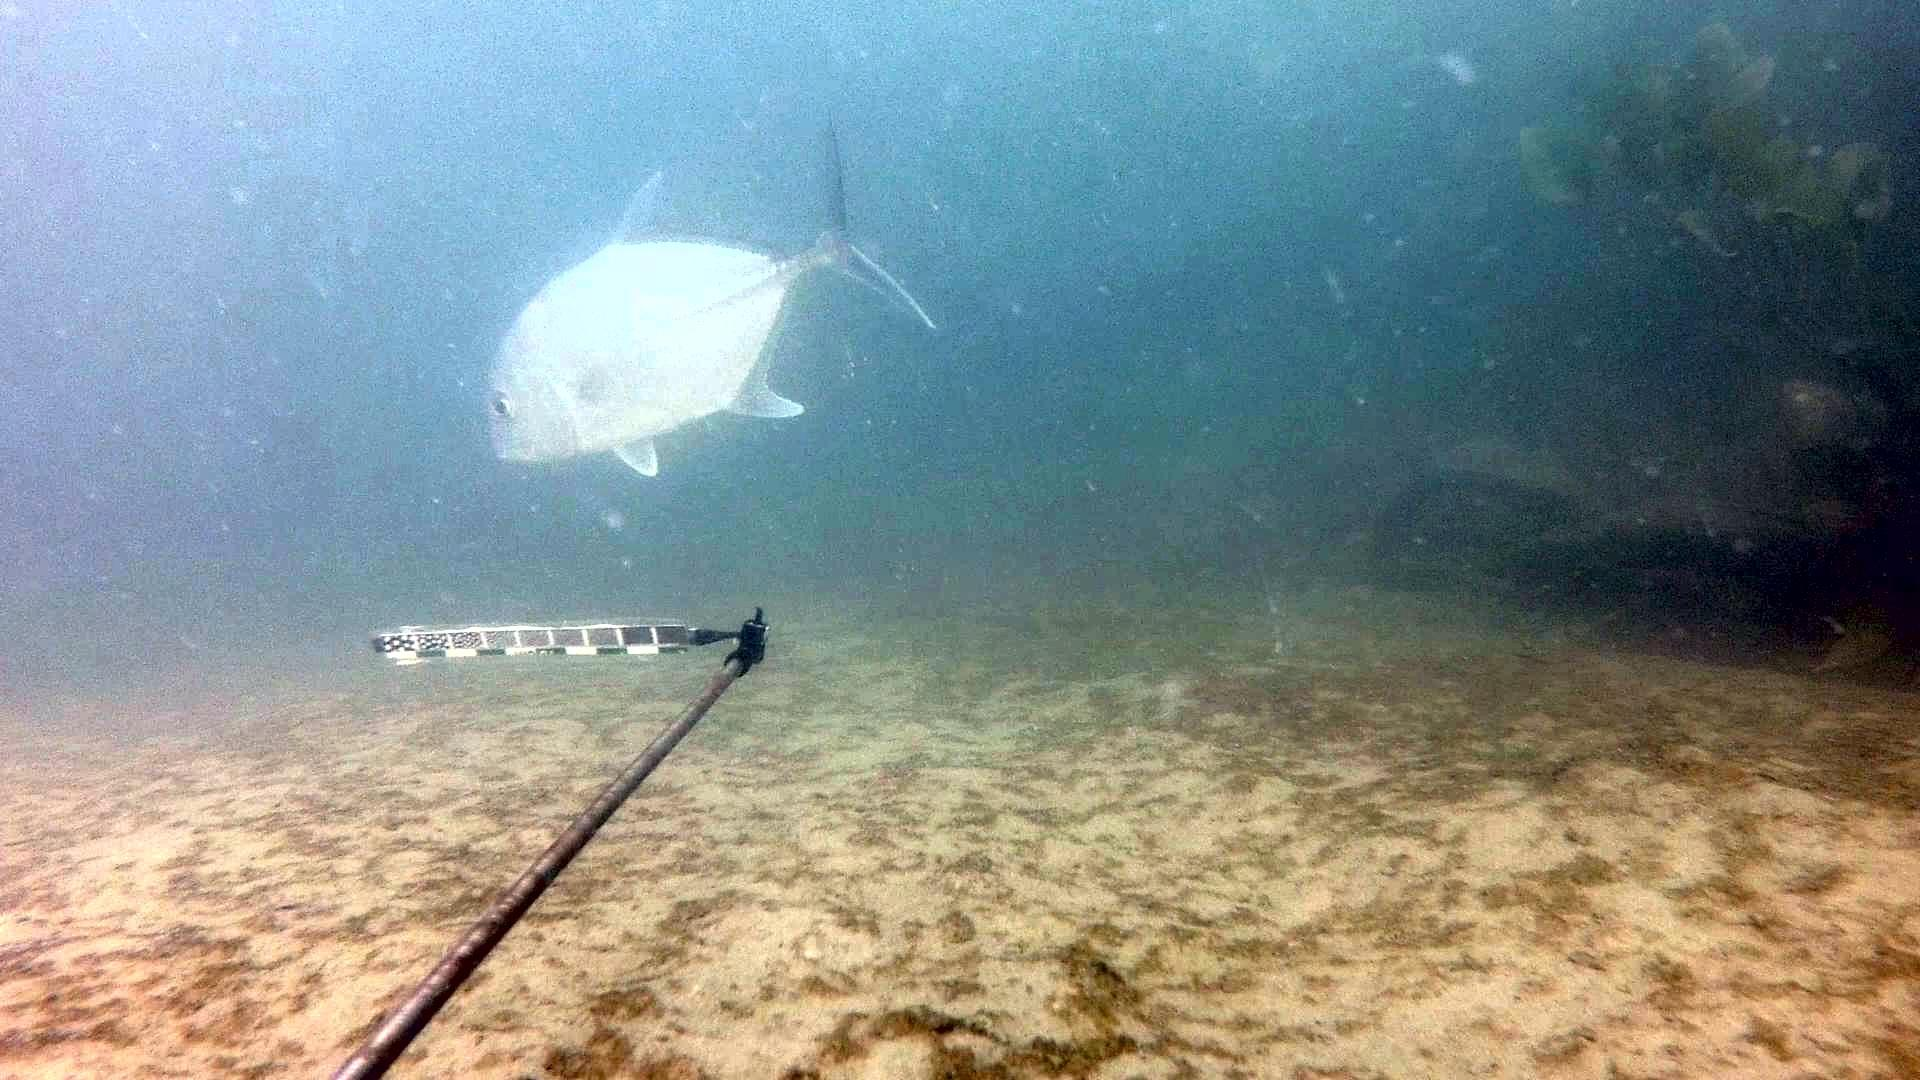caranx: (471, 113, 956, 495)
